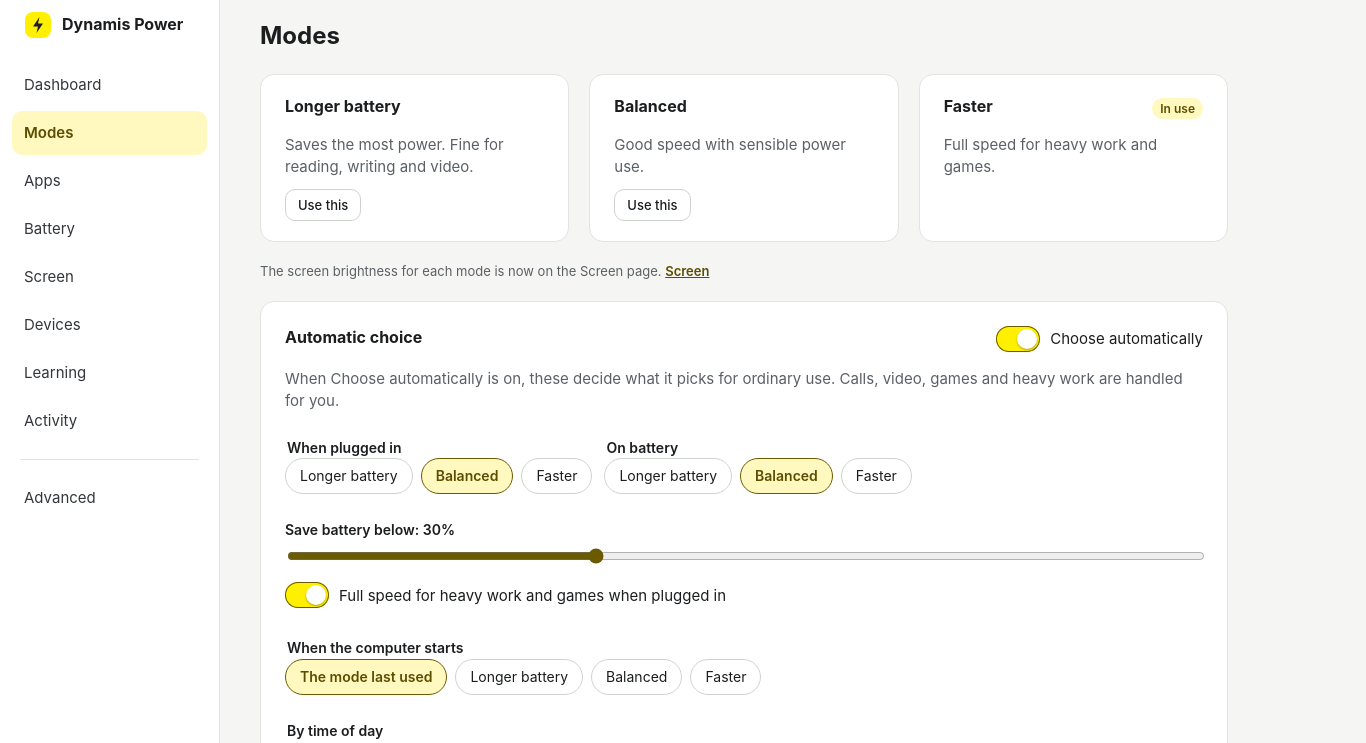
it: the app with the stand-in backend › saves auto mode preferences and explains a refusal
This screenshot has width=1366, height=743.
Click the radio button labelled "Longer battery" below "On battery".
click(668, 476)  # box [604, 458, 732, 494]
(page scrolled)
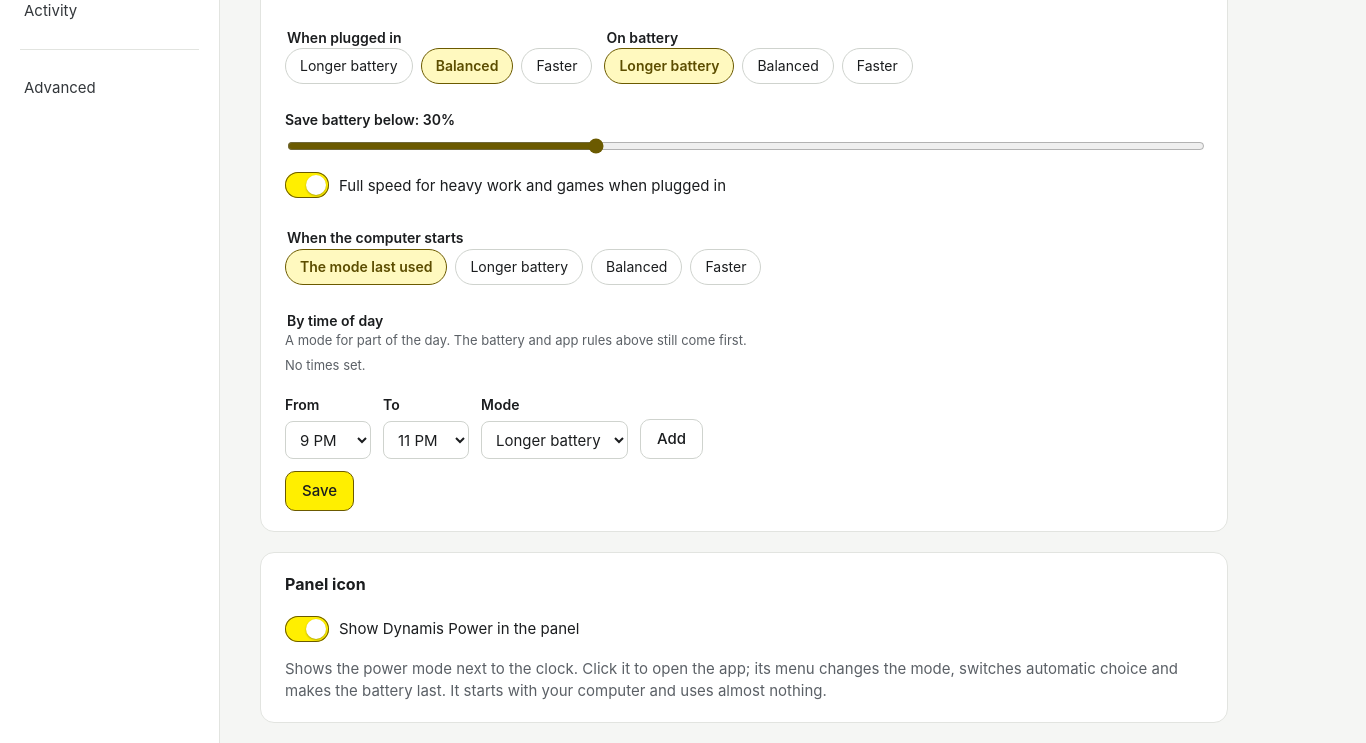
Now the radio button labelled "Longer battery" below "On battery" is checked, box [604, 48, 734, 84]
Click the button "Save".
click(320, 491)  # box [285, 471, 354, 511]
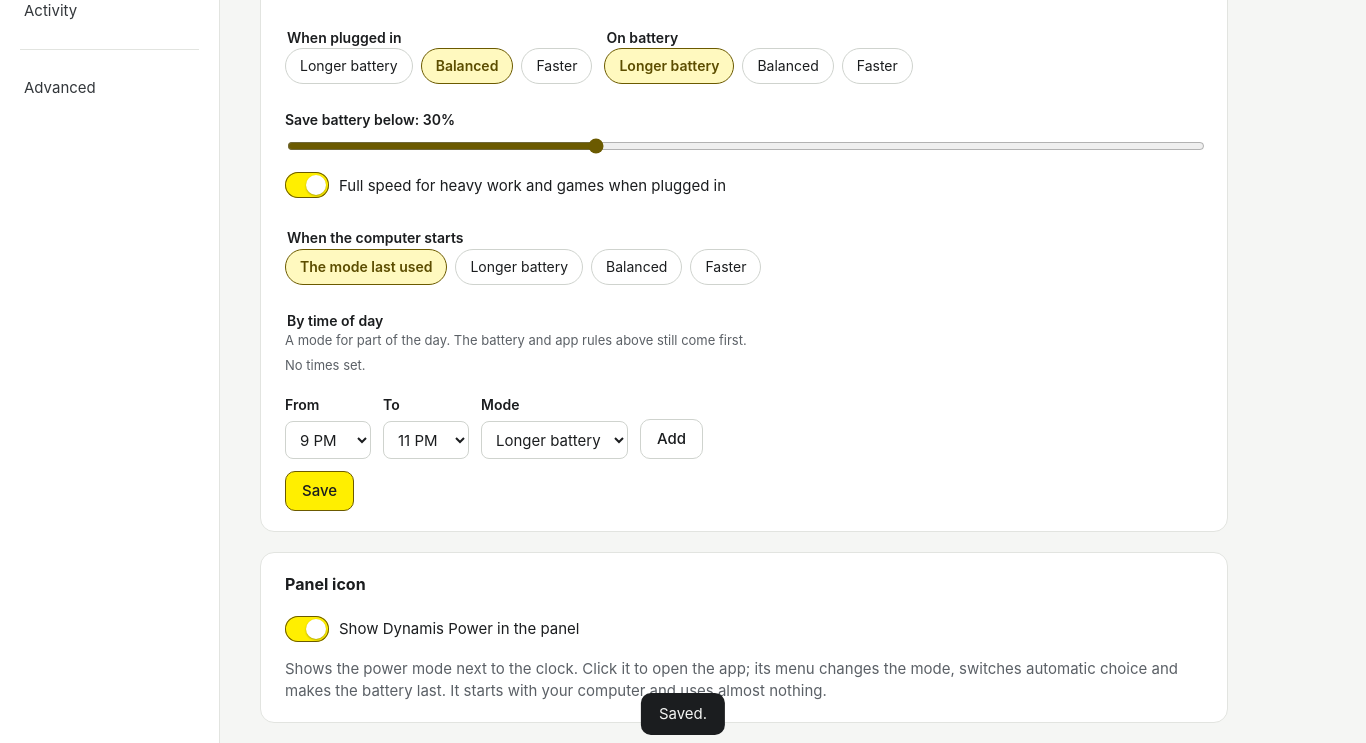
Now the message reads "Saved.", box [659, 704, 707, 723]
